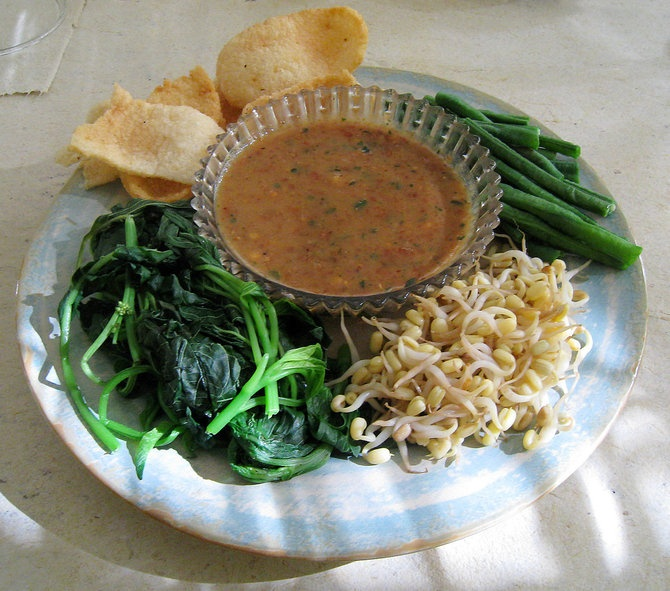pecel: (74, 52, 597, 473)
